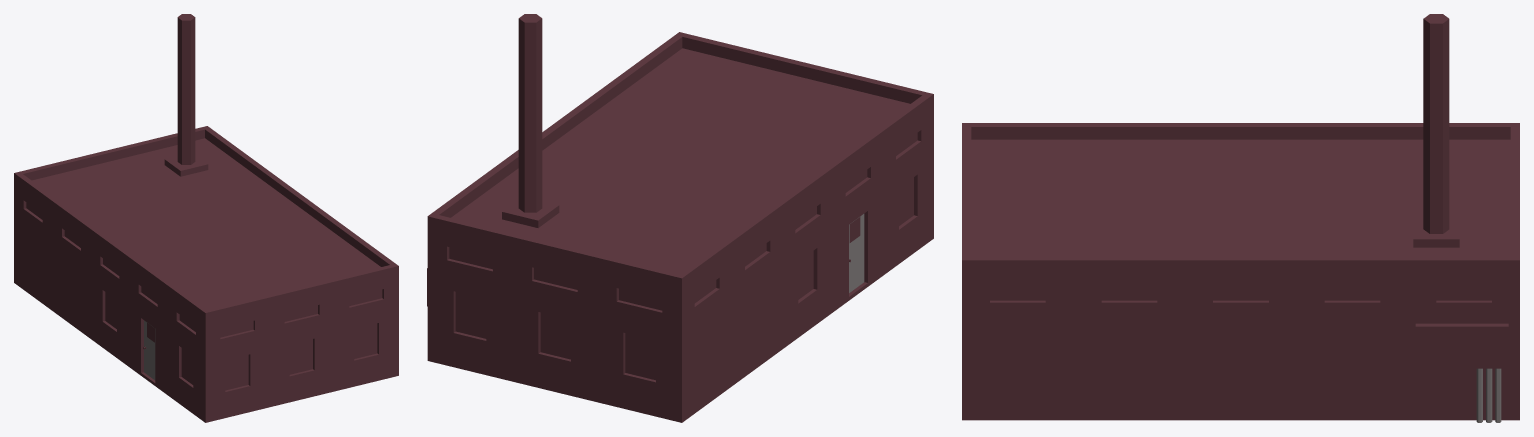
File: Gas station.fbx
3 renders of one model, left to right at view 1: azimuth 30°, elevation 25°; view 2: azimuth 150°, elevation 25°; view 3: azimuth 270°, elevation 25°, orthographic. The views are drawn at different scales.
Parts seen in each view (by area): view 1: industry-refinery; view 2: industry-refinery; view 3: industry-refinery.
Part boxes in pixels (x1,y1,x2,y2): industry-refinery: (14,14,398,422); industry-refinery: (427,14,933,422); industry-refinery: (962,14,1519,422).
Bounding box in the file's own units: 715 × 870 × 1200.
